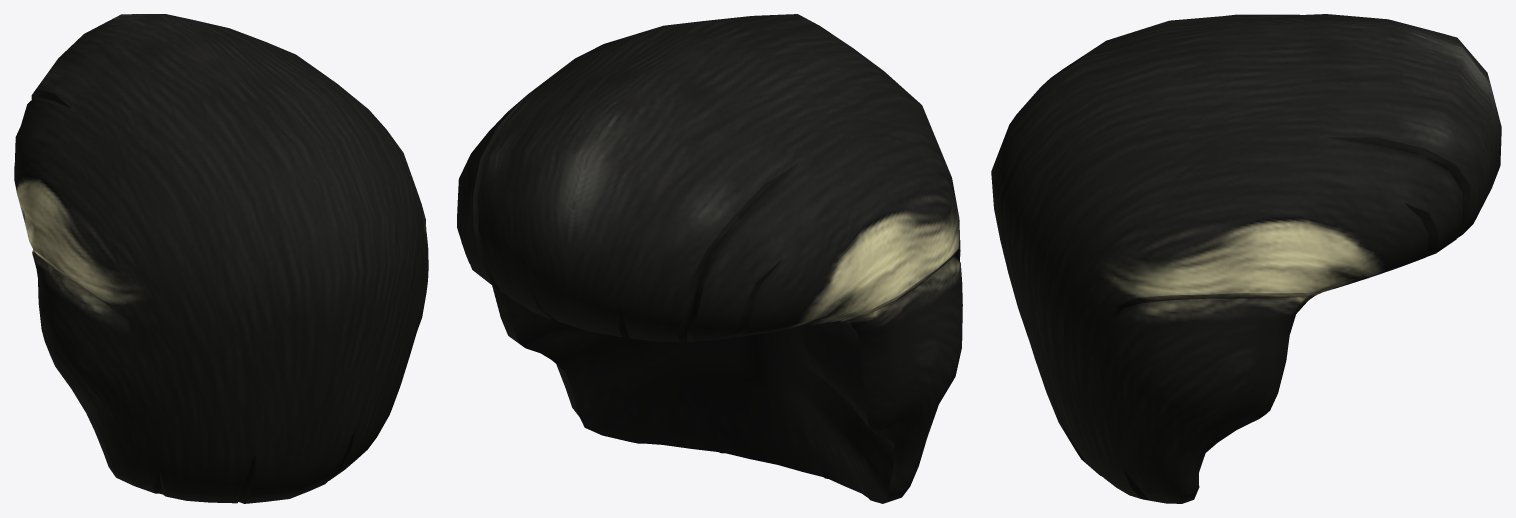
3 views of the same model, side by side, from view 1: azimuth 30°, elevation 25°; view 2: azimuth 150°, elevation 25°; view 3: azimuth 270°, elevation 25° (orthographic). The views are drawn at different scales.
Visible parts, largest first — view 1: geometry_0; view 2: geometry_0; view 3: geometry_0.
Boxes of the visible parts, <box> form: geometry_0: <box>14,14,428,503</box>; geometry_0: <box>457,14,962,503</box>; geometry_0: <box>991,14,1501,503</box>.
Size of the model in its own units: 1.49 by 1.53 by 1.62.
1 material, 1 textured.
